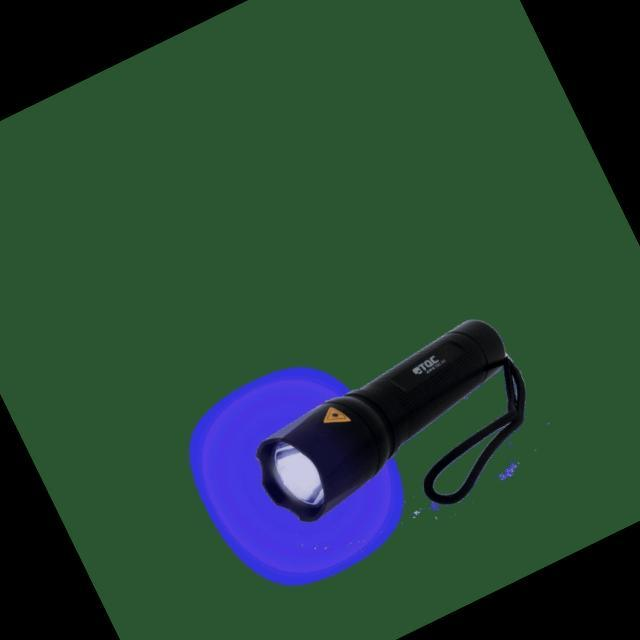Flashlight: (226, 299, 568, 585)
